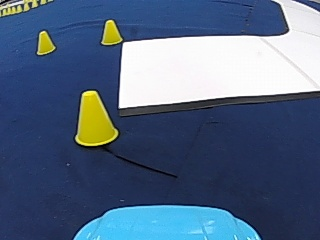cone: (73, 89, 117, 146), (100, 18, 122, 44), (36, 29, 55, 54)
